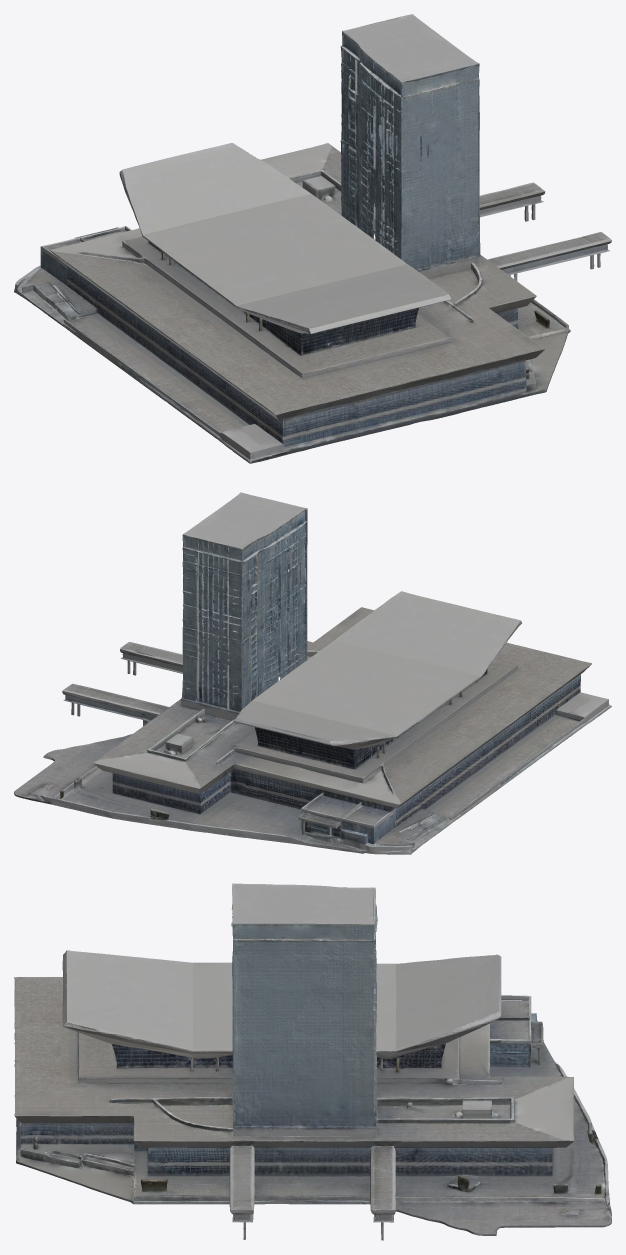
The model's file is tourism-airport-lod3.glb.
3 renders of one model, top to bottom at view 1: azimuth 30°, elevation 25°; view 2: azimuth 150°, elevation 25°; view 3: azimuth 270°, elevation 25°, orthographic. The views are drawn at different scales.
Parts seen in each view (by area): view 1: tripo_node_b72852f2-7e75-46c5-9221-3372c963a947; view 2: tripo_node_b72852f2-7e75-46c5-9221-3372c963a947; view 3: tripo_node_b72852f2-7e75-46c5-9221-3372c963a947.
Boxes of the visible parts, x1,y1,x2,y2 form: tripo_node_b72852f2-7e75-46c5-9221-3372c963a947: (14, 14, 611, 463); tripo_node_b72852f2-7e75-46c5-9221-3372c963a947: (14, 492, 611, 854); tripo_node_b72852f2-7e75-46c5-9221-3372c963a947: (14, 883, 611, 1240).
Size of the model in its own units: 30867 by 15668 by 32682.
Materials: 1 (1 with a texture image).
